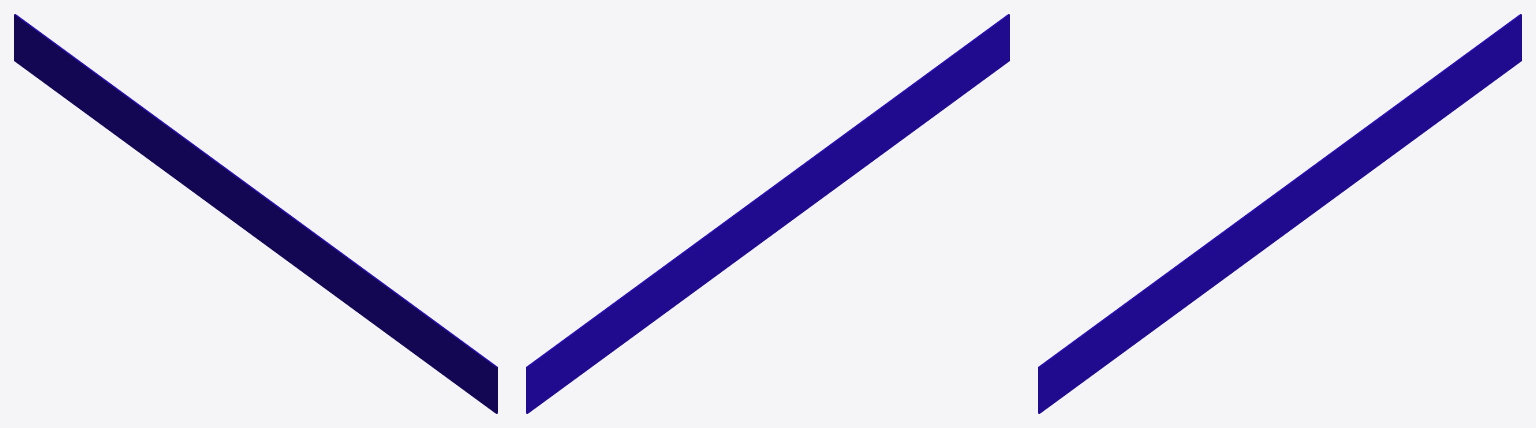
The model's file is SM_Police_Line_1.FBX.
The picture shows the model from 3 angles, left to right: view 1: azimuth 30°, elevation 25°; view 2: azimuth 150°, elevation 25°; view 3: azimuth 330°, elevation 25°; orthographic projection.
Parts seen in each view (by area): view 1: Police_Line_1; view 2: Police_Line_1; view 3: Police_Line_1.
Boxes of the visible parts, bbox=[...] form: Police_Line_1: bbox=[14, 14, 497, 413]; Police_Line_1: bbox=[526, 14, 1009, 413]; Police_Line_1: bbox=[1038, 14, 1521, 413].
Size of the model in its own units: 0.2 by 5.32 by 100.
